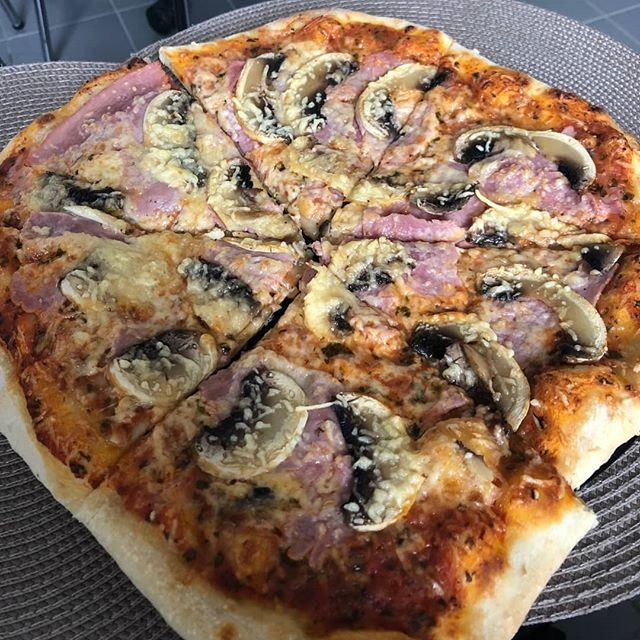champignon: (477, 263, 615, 371), (330, 388, 426, 542), (190, 372, 313, 481), (455, 122, 600, 191), (107, 327, 218, 409), (176, 249, 267, 341), (357, 58, 440, 142), (231, 48, 290, 146), (292, 48, 353, 138)
